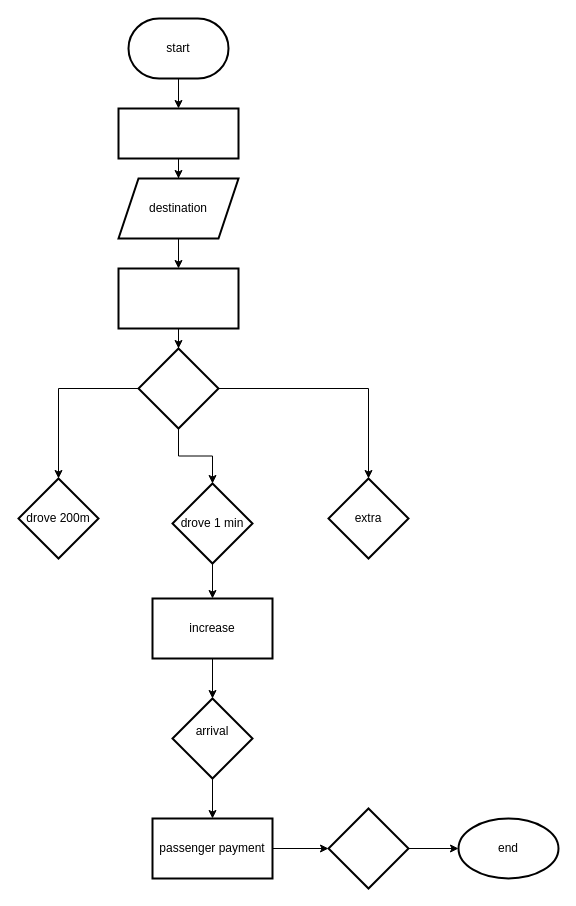
Image size: 576x906. Some labels were removed from this diagram. Here are the shapes that lost their labels. From the top down, the centre of each, then its label:
At [178,133]: "payment".
At [178,298]: "leave".
At [178,388]: "drove 2km".
At [368,848]: "finish".
